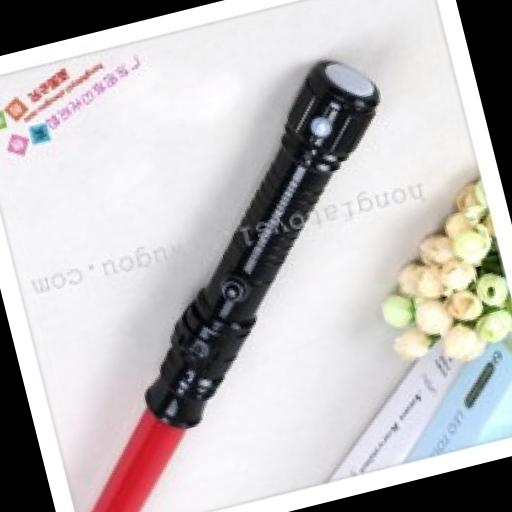sith saber: (0, 37, 490, 512)
